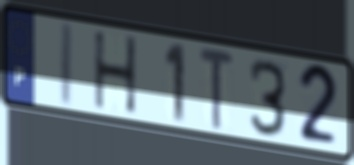1: (162, 41, 187, 127)
2: (294, 62, 344, 151)
3: (247, 56, 289, 139)
H: (91, 30, 140, 118)
I: (56, 19, 76, 111)
T: (197, 43, 237, 133)
